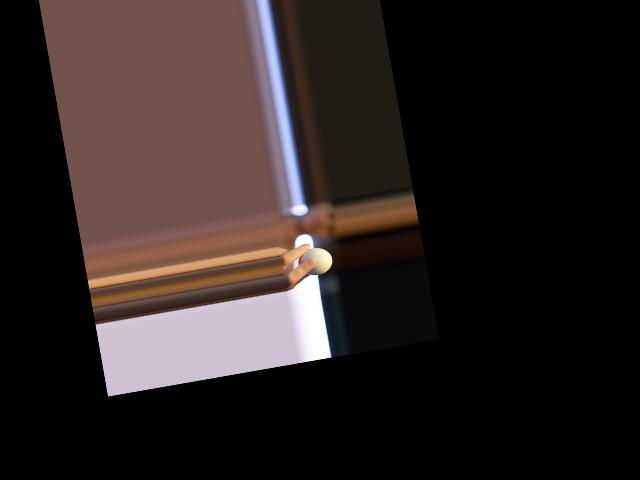egg: (295, 244, 334, 277)
